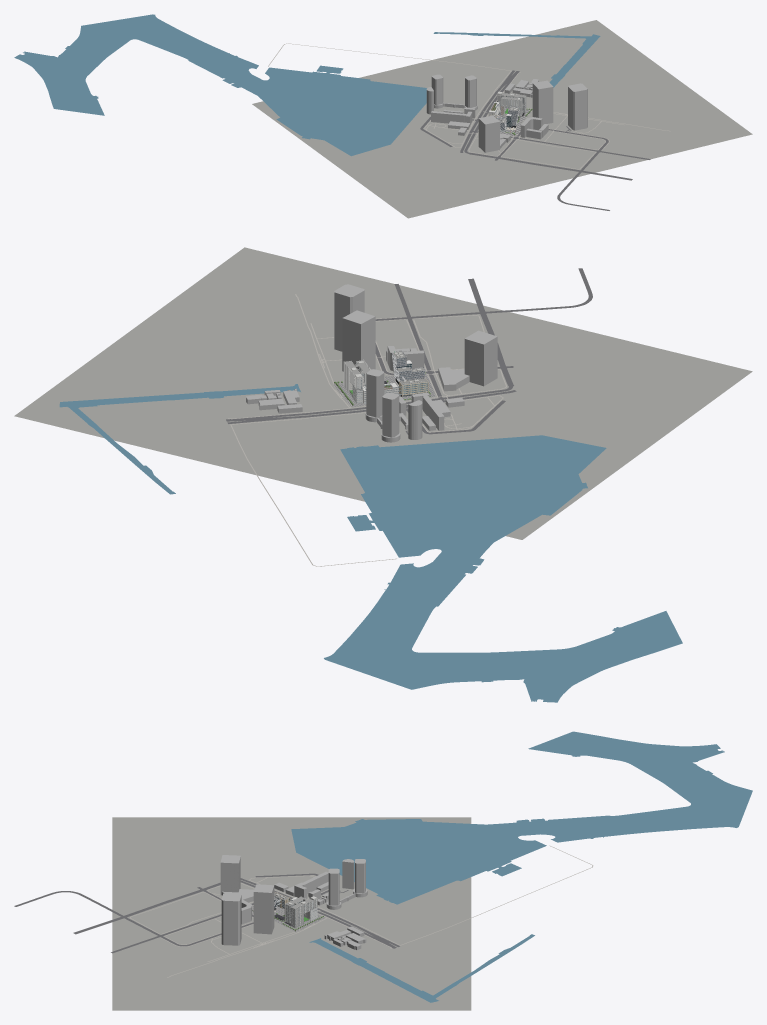
Rendered from campus.glb.
3 views of the same model, one above another, from view 1: azimuth 30°, elevation 25°; view 2: azimuth 150°, elevation 25°; view 3: azimuth 270°, elevation 25° (orthographic). The views are drawn at different scales.
Visible parts, largest first — view 1: 地面, 運河_721243864, 道路_車道, 道路_歩道, 運河_87725065, 周辺_THE TOYOSU TOWER_102379220, 周辺_シティタワーズ豊洲_187753906, 周辺_豊洲IHIビル_102519005, 研究棟_外観.001, 周辺_豊洲ハイライズ_103379229, 周辺_キャナルワーフタワーズ East_103379231; view 2: 地面, 運河_721243864, 道路_車道, 運河_87725065, 道路_歩道, 周辺_シティタワーズ豊洲_187753906, 周辺_豊洲IHIビル_102519005, 周辺_THE TOYOSU TOWER_102379220, 周辺_キャナルワーフタワーズ East_103379231, 周辺_キャナルワーフタワーズ West_103379242; view 3: 地面, 運河_721243864, 道路_車道, 道路_歩道, 運河_87725065, 周辺_THE TOYOSU TOWER_102379220, 周辺_シティタワーズ豊洲_187753906, 周辺_豊洲IHIビル_102519005, 研究棟_外観.001, 周辺_豊洲ハイライズ_103379229.
Boxes of the visible parts, x1,y1,x2,y2 form: 地面: (252,20,752,218); 運河_721243864: (14,14,426,156); 道路_車道: (420,70,650,210); 道路_歩道: (268,43,670,169); 運河_87725065: (433,32,600,87); 周辺_THE TOYOSU TOWER_102379220: (568,83,587,130); 周辺_シティタワーズ豊洲_187753906: (532,80,553,124); 周辺_豊洲IHIビル_102519005: (478,115,499,152); 研究棟_外観.001: (497,91,526,116); 周辺_豊洲ハイライズ_103379229: (431,111,472,124); 周辺_キャナルワーフタワーズ East_103379231: (465,75,476,107); 地面: (14,247,752,539); 運河_721243864: (324,435,682,702); 道路_車道: (226,268,592,434); 運河_87725065: (59,384,300,494); 道路_歩道: (228,294,506,566); 周辺_シティタワーズ豊洲_187753906: (342,310,375,371); 周辺_豊洲IHIビル_102519005: (464,330,497,386); 周辺_THE TOYOSU TOWER_102379220: (334,284,364,351); 周辺_キャナルワーフタワーズ East_103379231: (366,369,384,417); 周辺_キャナルワーフタワーズ West_103379242: (382,392,399,437); 地面: (112,817,471,1010); 運河_721243864: (291,731,752,904); 道路_車道: (14,873,399,953); 道路_歩道: (130,845,593,977); 運河_87725065: (309,934,534,1002); 周辺_THE TOYOSU TOWER_102379220: (221,893,241,945); 周辺_シティタワーズ豊洲_187753906: (253,884,274,934); 周辺_豊洲IHIビル_102519005: (220,855,240,895); 研究棟_外観.001: (283,896,317,927); 周辺_豊洲ハイライズ_103379229: (294,871,328,898).
Size of the model in its own units: 2023 by 150 by 2264.
